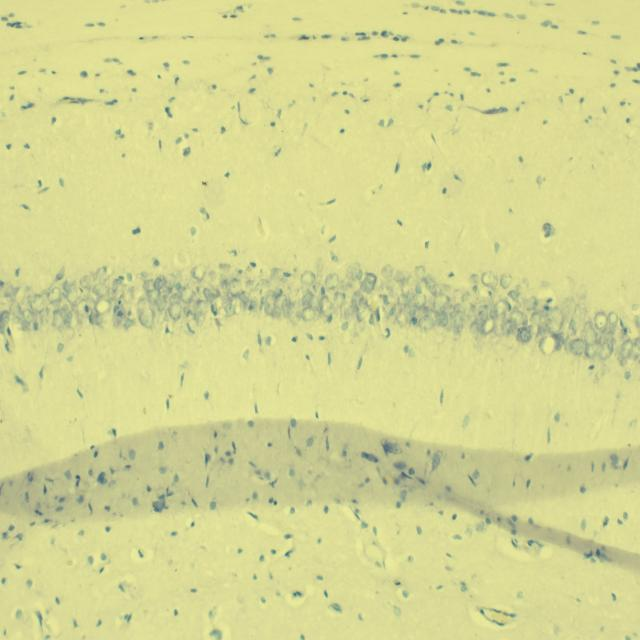neuron: (536, 280, 556, 316), (545, 306, 565, 334), (570, 303, 587, 334), (539, 333, 559, 357), (530, 308, 542, 339), (452, 303, 466, 329), (433, 292, 451, 312), (272, 294, 286, 319), (139, 307, 155, 328), (361, 273, 377, 294), (562, 296, 576, 320), (356, 301, 371, 323), (490, 299, 508, 317), (76, 298, 92, 318), (180, 284, 195, 305), (66, 280, 79, 304), (320, 294, 334, 316), (191, 263, 207, 282), (265, 289, 276, 316), (297, 286, 313, 304), (418, 314, 436, 330), (481, 271, 497, 289), (516, 326, 532, 344), (59, 304, 72, 326), (112, 278, 125, 300), (510, 309, 525, 328), (168, 302, 182, 322), (414, 305, 428, 325), (477, 305, 489, 328), (30, 294, 45, 312), (94, 299, 112, 314), (92, 282, 110, 297), (325, 272, 340, 290), (449, 310, 464, 328), (194, 299, 208, 318), (494, 314, 505, 338), (629, 337, 640, 361), (351, 290, 364, 310), (11, 316, 28, 331), (228, 278, 242, 296), (283, 293, 292, 321), (584, 327, 598, 345), (594, 312, 608, 330), (219, 273, 229, 298), (481, 317, 494, 336), (477, 285, 496, 298), (620, 339, 633, 358), (52, 310, 64, 330), (46, 287, 62, 302), (255, 278, 270, 294), (569, 338, 584, 354), (403, 300, 417, 317), (451, 324, 465, 341), (287, 302, 298, 323), (608, 311, 618, 334), (600, 342, 612, 361), (146, 288, 161, 303), (300, 270, 315, 285), (8, 302, 22, 318), (584, 343, 598, 359), (154, 274, 167, 291), (126, 304, 138, 322), (161, 319, 175, 334), (499, 273, 513, 288), (524, 296, 538, 311), (414, 292, 427, 308), (423, 274, 436, 290), (396, 308, 406, 328), (400, 278, 410, 298), (96, 266, 114, 277), (61, 326, 75, 340), (203, 288, 217, 302), (89, 311, 103, 325), (0, 284, 15, 297), (79, 275, 94, 288), (307, 295, 320, 310), (22, 308, 34, 324), (38, 308, 50, 324), (346, 265, 357, 282), (223, 304, 237, 317), (302, 308, 315, 322), (393, 270, 406, 284), (165, 272, 175, 290), (345, 296, 354, 316), (414, 265, 426, 280), (136, 299, 152, 310), (156, 295, 167, 311), (576, 284, 587, 300), (0, 309, 10, 326), (334, 291, 344, 308), (332, 306, 342, 323), (470, 322, 480, 339), (508, 289, 521, 302), (143, 278, 155, 292), (221, 296, 233, 310), (382, 264, 393, 279), (151, 300, 161, 316), (169, 293, 181, 306), (397, 293, 409, 306), (55, 266, 66, 280), (98, 273, 110, 285), (432, 310, 441, 326), (503, 321, 514, 334), (62, 280, 72, 294), (444, 304, 455, 316), (583, 320, 593, 333), (211, 302, 219, 318), (441, 312, 449, 328), (567, 319, 576, 333), (20, 294, 32, 304), (207, 270, 217, 282), (239, 290, 247, 305), (460, 291, 470, 303), (469, 273, 479, 284), (634, 313, 640, 328), (356, 270, 363, 282)
